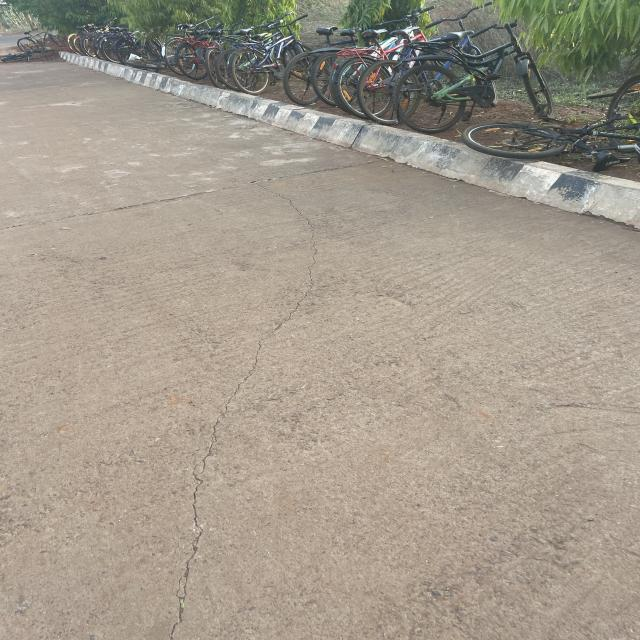D01: (131, 357, 248, 628)
D11: (77, 159, 407, 228)
